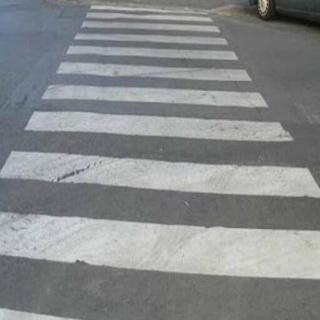road_crosswalk: (7, 0, 315, 317)
